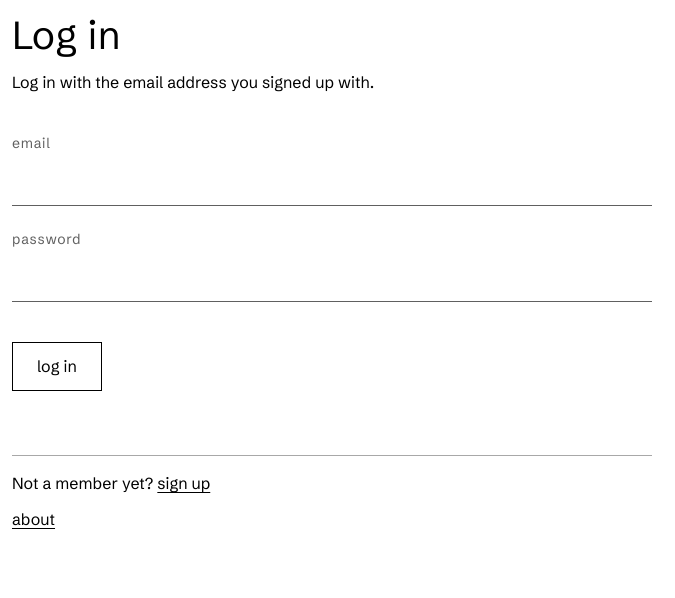
Scenario: LoginPage › F-15: wrong credentials show "Email or password is incorrect." and never count as an expired session
The width and height of the screenshot is (675, 598).
Step 1. Type "mira.novak@example.org" into the field labelled "email" → x=332, y=184, box 12,162 -> 652,206
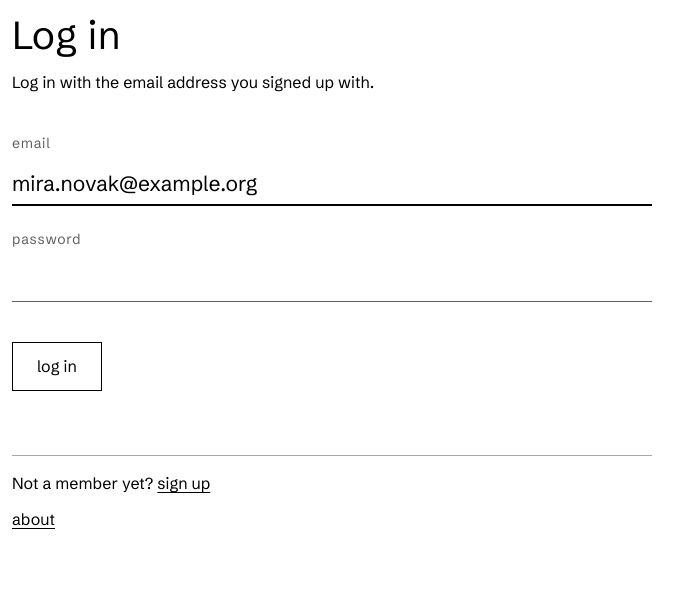
Step 2. Type "not the right password" into the password field labelled "password" → x=332, y=280, box 12,258 -> 652,302
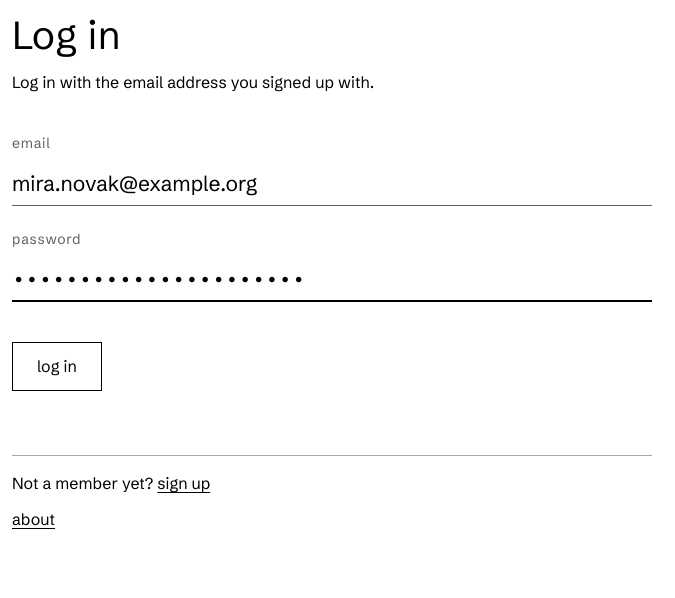
Step 3. Click the button "log in" → x=57, y=366, box 12,342 -> 102,391
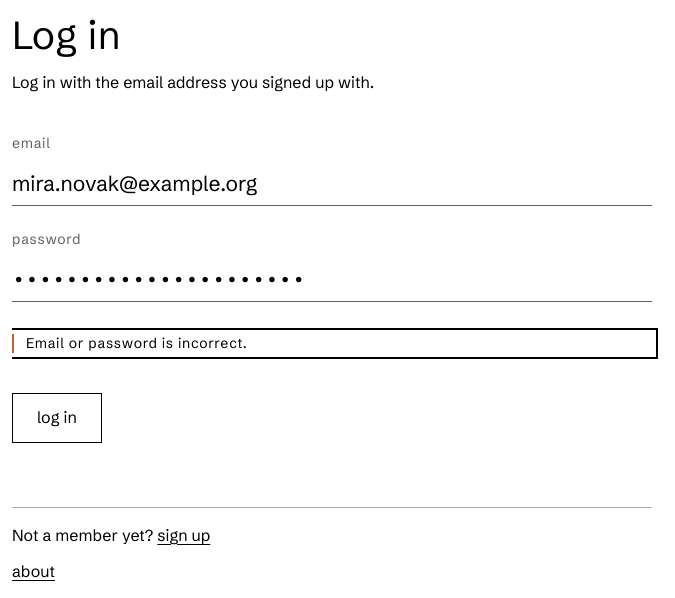
Expected: the button "log in" is enabled, 12,393 -> 102,443
Expected: the message reads "Email or password is incorrect.", 26,334 -> 247,352
